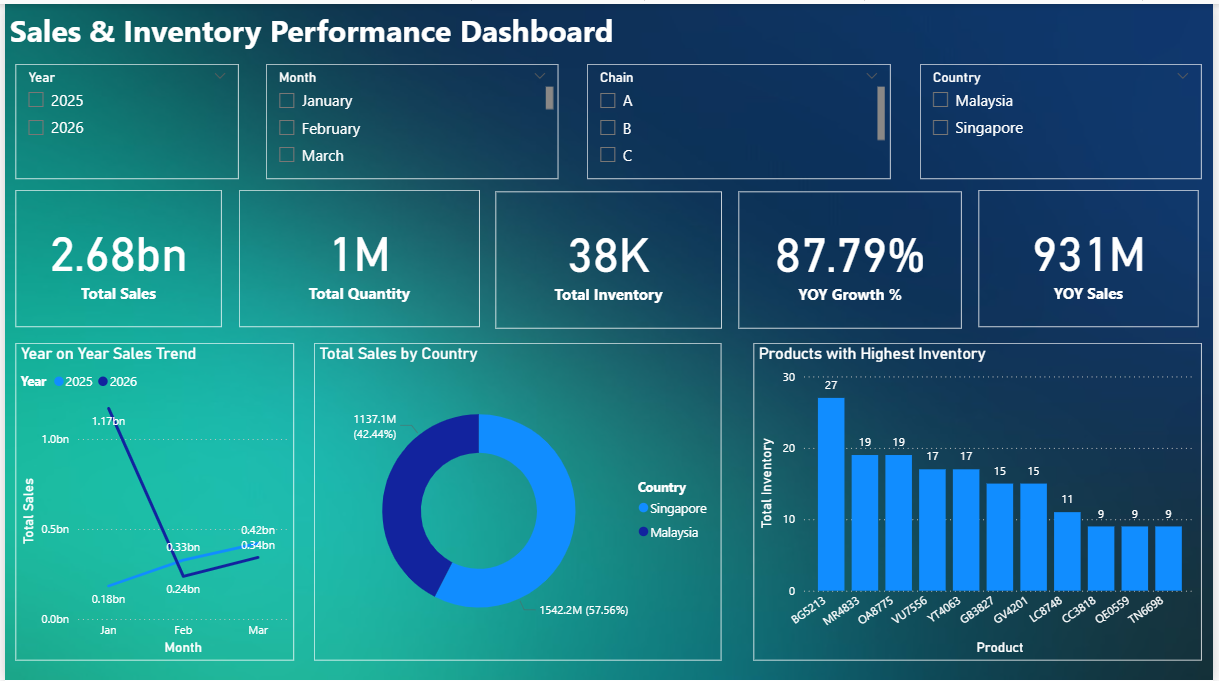

This screenshot's page, from the dashboard's own definition file:
{"tool":"powerbi","page":{"name":"Summary","canvas":[1280,720],"ordinal":0},"visuals":[{"type":"card","fields":{"Values":["Fact_Sales.Total Sales"]},"box":[11.7,196.7,218.3,145],"z":0},{"type":"card","fields":{"Values":["Fact_Sales.Total Quantity"]},"box":[248.3,196.7,255,145],"z":1000},{"type":"card","fields":{"Values":["Fact_Sales.YOY Sales"]},"box":[1031.7,196.7,233.3,145],"z":2000},{"type":"card","fields":{"Values":["Fact_Inventory.Total Inventory"]},"box":[520,198.3,240,145],"z":3000},{"type":"lineChart","title":"Year on Year Sales Trend","fields":{"Category":["Dim_Date.Month"],"Series":["Dim_Date.Year"],"Y":["Fact_Sales.Total Sales"]},"box":[11.7,360,295,336.7],"z":4000},{"type":"columnChart","title":"Products with Highest Inventory","fields":{"Category":["Dim_Article.Article No."],"Y":["Fact_Inventory.Total Inventory"]},"box":[793.3,360,475,336.7],"z":5000},{"type":"card","fields":{"Values":["Fact_Sales.YOY Growth"]},"box":[778.3,198.3,236.7,145],"z":6000},{"type":"textbox","box":[0,0,793.3,63.3],"z":7000},{"type":"slicer","fields":{"Values":["Dim_Date.Date.Variation.Date Hierarchy.Year"]},"box":[11.7,63.3,236.7,121.7],"z":8000},{"type":"slicer","fields":{"Values":["Dim_Country.Country"]},"box":[970,63.3,298.3,121.7],"z":9000},{"type":"slicer","fields":{"Values":["Dim_Chain1.Chain"]},"box":[616.7,63.3,321.7,121.7],"z":10000},{"type":"slicer","fields":{"Values":["Dim_Date.Date.Variation.Date Hierarchy.Month"]},"box":[276.7,63.3,310,121.7],"z":11000},{"type":"donutChart","fields":{"Category":["Dim_Chain1.Country"],"Y":["Fact_Sales.Total Sales"]},"box":[328.3,360,431.7,336.7],"z":12000}]}

Visuals, with their boxes in screenshot pixels (x1, y1, x2, y2), scaled from the page's 1280x720 canvas onto the 1219x681 screenshot:
card - Fact_Sales.Total Sales: [left=11, top=186, right=219, bottom=323]
card - Fact_Sales.Total Quantity: [left=236, top=186, right=479, bottom=323]
card - Fact_Sales.YOY Sales: [left=983, top=186, right=1205, bottom=323]
card - Fact_Inventory.Total Inventory: [left=495, top=188, right=724, bottom=325]
"Year on Year Sales Trend" lineChart: [left=11, top=340, right=292, bottom=659]
"Products with Highest Inventory" columnChart: [left=755, top=340, right=1208, bottom=659]
card - Fact_Sales.YOY Growth: [left=741, top=188, right=967, bottom=325]
textbox: [left=0, top=0, right=755, bottom=60]
slicer - Dim_Date.Date.Variation.Date Hierarchy.Year: [left=11, top=60, right=237, bottom=175]
slicer - Dim_Country.Country: [left=924, top=60, right=1208, bottom=175]
slicer - Dim_Chain1.Chain: [left=587, top=60, right=894, bottom=175]
slicer - Dim_Date.Date.Variation.Date Hierarchy.Month: [left=264, top=60, right=559, bottom=175]
donutChart - Dim_Chain1.Country x Fact_Sales.Total Sales: [left=313, top=340, right=724, bottom=659]
